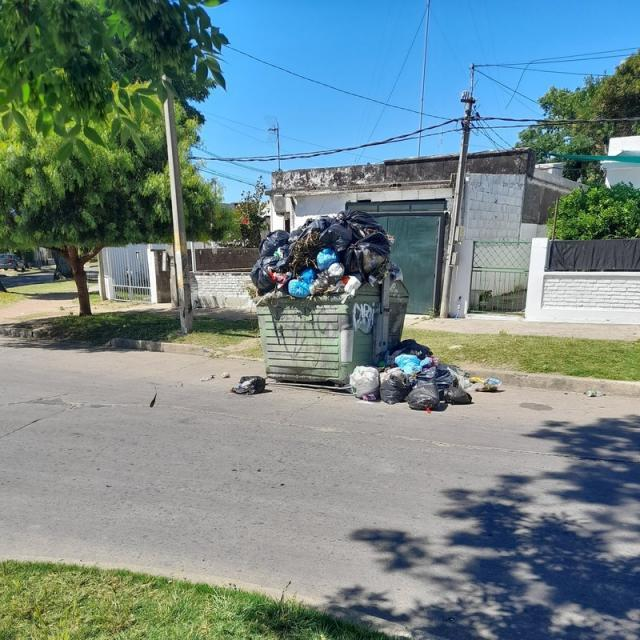garbage: (224, 204, 452, 302), (347, 319, 518, 438), (210, 338, 276, 404), (442, 293, 475, 321)
